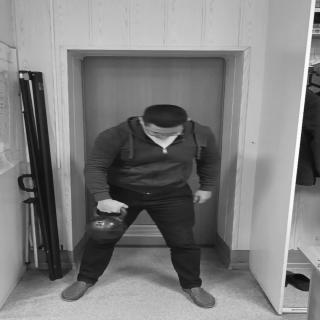girya: (88, 203, 129, 239)
